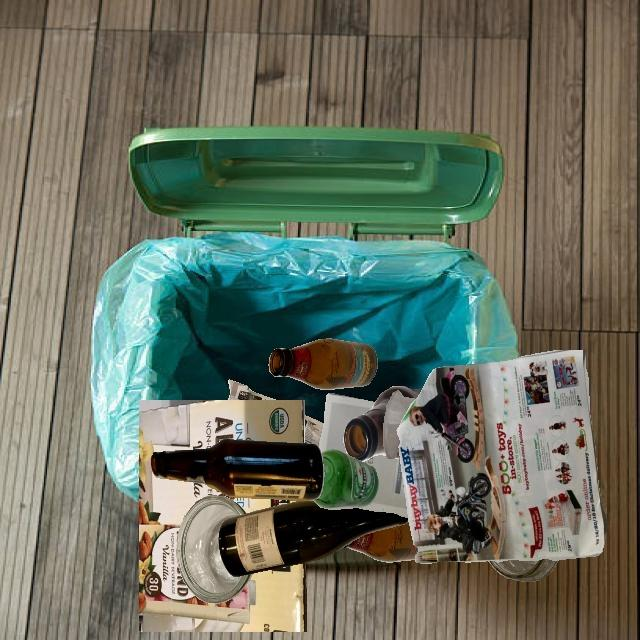cardboard: (139, 400, 307, 632)
glass: (218, 500, 409, 577), (150, 439, 324, 501), (176, 495, 253, 604), (344, 386, 422, 462), (269, 338, 378, 390), (312, 449, 379, 509), (342, 521, 419, 562), (383, 391, 416, 459), (488, 558, 559, 582)
paper: (397, 350, 608, 564), (319, 393, 375, 454), (358, 454, 408, 517), (228, 379, 276, 400), (304, 415, 324, 448)
